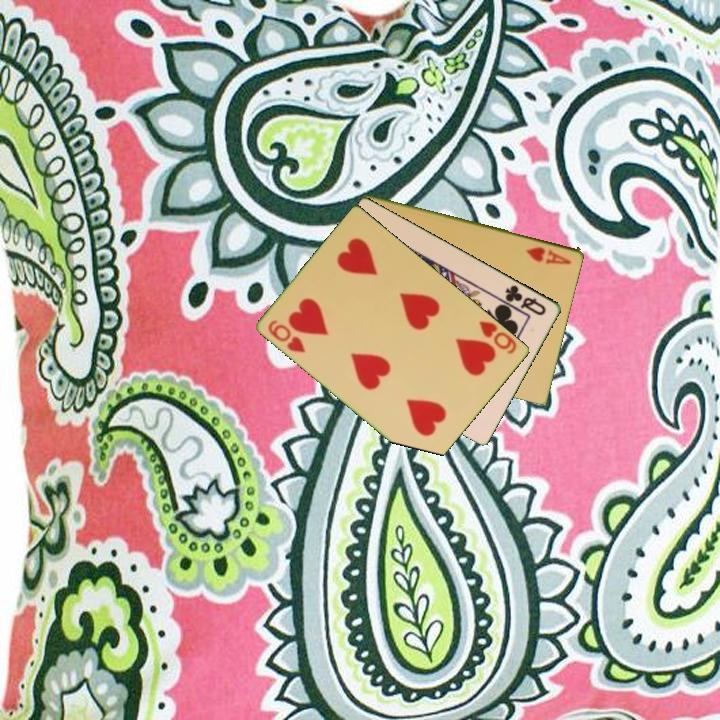6h: (476, 317, 520, 357), (265, 316, 309, 356)
Ah: (523, 243, 575, 267)
Qc: (502, 281, 550, 318)
